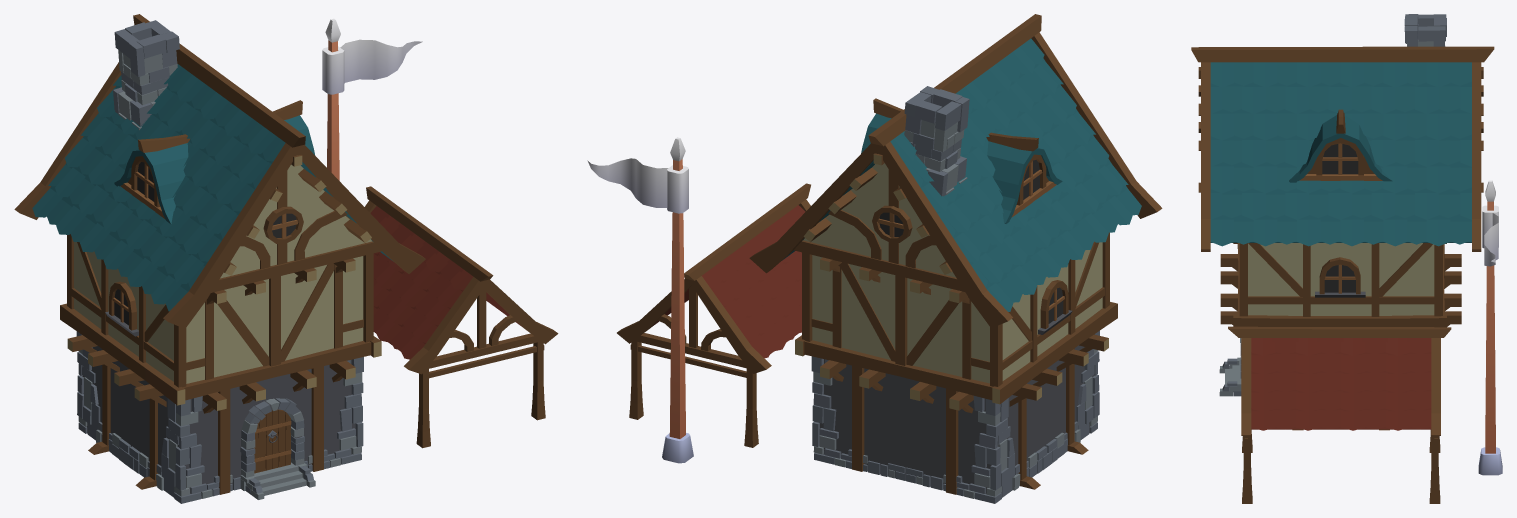
File: london_harbor_3.glb
The picture shows the model from 3 angles, left to right: view 1: azimuth 30°, elevation 25°; view 2: azimuth 150°, elevation 25°; view 3: azimuth 270°, elevation 25°; orthographic projection. The views are drawn at different scales.
Visible parts, largest first — view 1: House_1, Gazebo, flag-high-pennant; view 2: House_1, Gazebo, flag-high-pennant; view 3: House_1, Gazebo, flag-high-pennant.
Boxes of the visible parts, x1,y1,x2,y2 form: House_1: [14, 14, 425, 503]; Gazebo: [364, 186, 558, 448]; flag-high-pennant: [322, 18, 422, 180]; House_1: [749, 14, 1162, 503]; Gazebo: [617, 183, 810, 447]; flag-high-pennant: [587, 137, 693, 463]; House_1: [1191, 14, 1494, 430]; Gazebo: [1228, 326, 1451, 503]; flag-high-pennant: [1478, 180, 1502, 475].
Bounding box in the file's own units: 17.21 × 15.26 × 12.3.
Materials: 12 (1 with a texture image).
